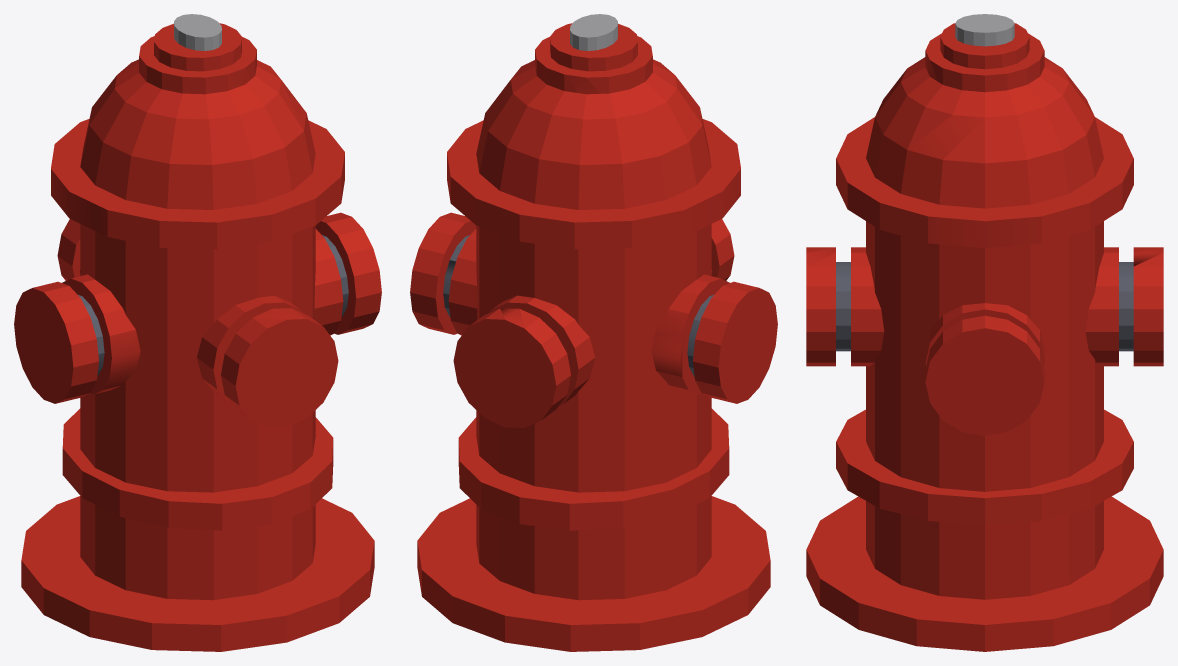
Rendered from pho-tru-cuu-hoa.glb.
3 renders of one model, left to right at view 1: azimuth 30°, elevation 25°; view 2: azimuth 150°, elevation 25°; view 3: azimuth 270°, elevation 25°, orthographic.
Parts seen in each view (by area): view 1: pho-tru-cuu-hoa; view 2: pho-tru-cuu-hoa; view 3: pho-tru-cuu-hoa.
Boxes of the visible parts, box(x1,y1,x2,y2) form: pho-tru-cuu-hoa: box(14, 14, 381, 651); pho-tru-cuu-hoa: box(410, 14, 777, 651); pho-tru-cuu-hoa: box(806, 14, 1163, 651).
Bounding box in the file's own units: 2.4 × 4.1 × 2.4.
